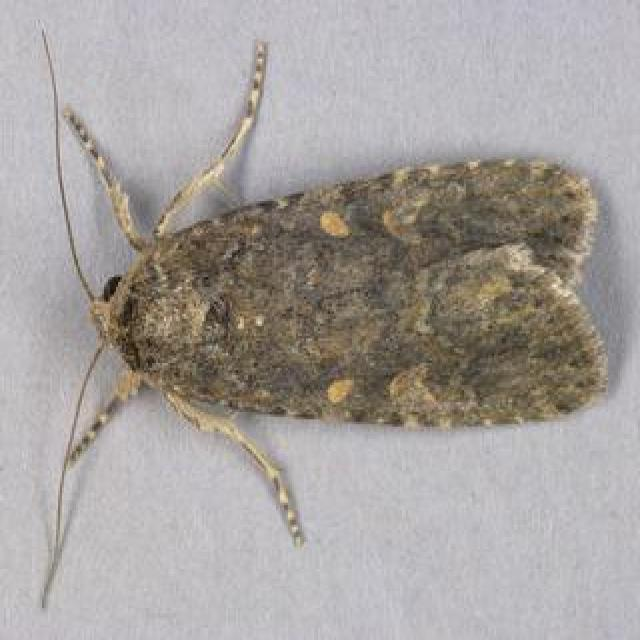BeetArmyWorm-Adult-: (26, 21, 618, 600)
